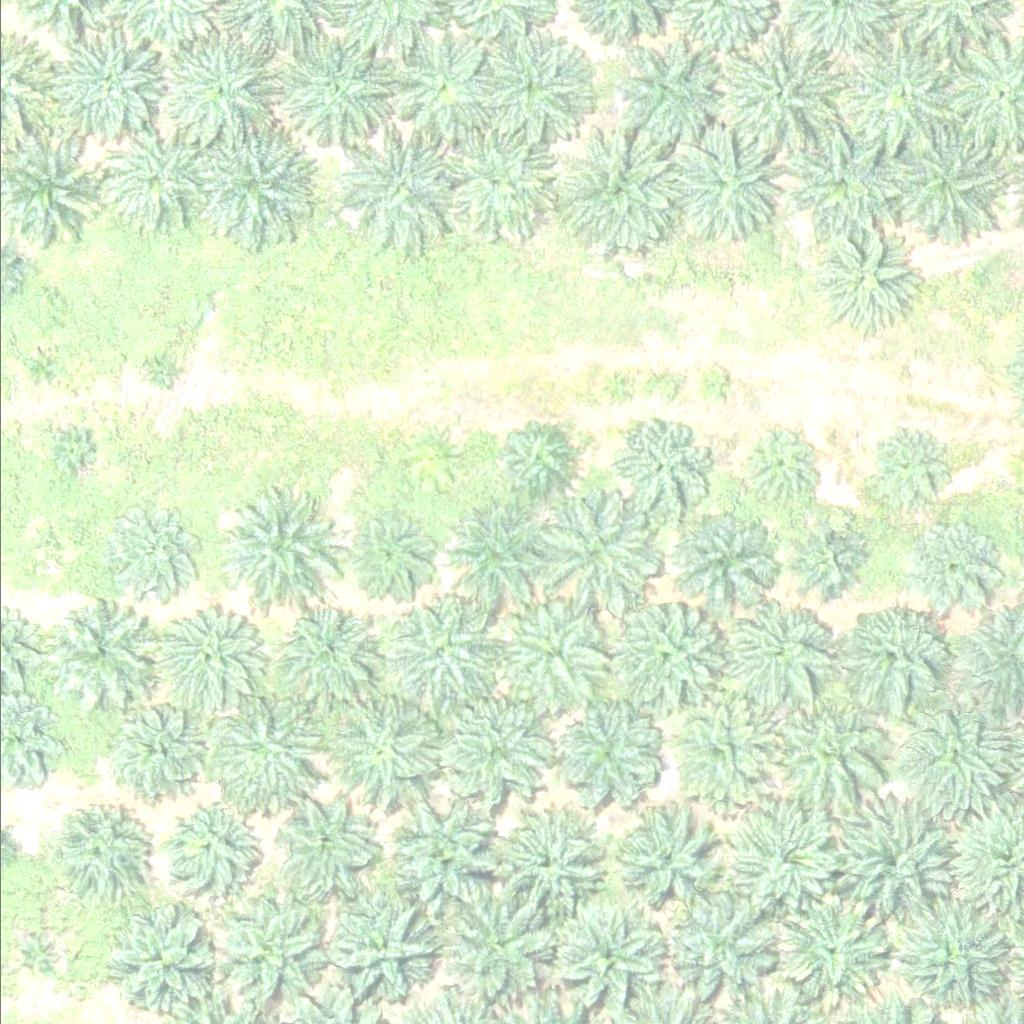Kelapa_Sawit: (878, 120, 1004, 245), (657, 126, 783, 251), (561, 125, 687, 250), (709, 27, 835, 152), (837, 34, 963, 159), (535, 487, 661, 612), (469, 26, 595, 151), (431, 120, 557, 245), (34, 19, 160, 144), (148, 27, 274, 152), (269, 22, 395, 147), (331, 124, 457, 249), (186, 120, 312, 245), (215, 480, 341, 605), (201, 890, 327, 1015), (201, 692, 326, 817), (897, 901, 1011, 1014), (772, 696, 885, 809), (666, 690, 779, 803), (605, 602, 718, 715), (721, 592, 834, 705), (837, 602, 950, 715), (802, 223, 915, 336), (604, 33, 717, 146), (555, 700, 668, 813), (485, 808, 598, 921), (45, 591, 158, 704), (440, 695, 553, 808), (327, 695, 440, 808), (389, 793, 502, 906), (99, 907, 212, 1020), (787, 129, 901, 241), (437, 887, 551, 999), (776, 895, 889, 1007), (660, 894, 773, 1006), (607, 801, 720, 913), (731, 801, 844, 913), (833, 808, 946, 920), (898, 699, 1011, 811), (551, 902, 664, 1014), (489, 600, 602, 712), (438, 501, 551, 613), (382, 596, 495, 708), (149, 598, 262, 710), (325, 889, 438, 1001), (899, 520, 1000, 620), (668, 512, 769, 612), (96, 131, 197, 231), (101, 501, 202, 601), (273, 604, 374, 704), (101, 702, 202, 802), (273, 792, 374, 892), (156, 794, 257, 894), (43, 792, 144, 892), (606, 416, 706, 516), (387, 38, 487, 138), (860, 425, 948, 513), (732, 423, 820, 511), (349, 513, 437, 600), (496, 422, 572, 497), (790, 524, 865, 599), (9, 927, 59, 977), (23, 351, 61, 389), (142, 352, 180, 390), (691, 366, 729, 403), (30, 537, 67, 575), (49, 433, 87, 470)
